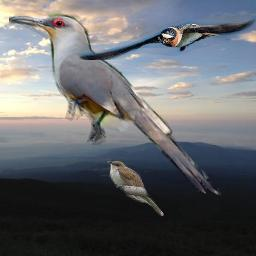Cuckoo: (9, 13, 221, 200), (107, 161, 164, 216)
Swallow: (78, 14, 256, 60)
